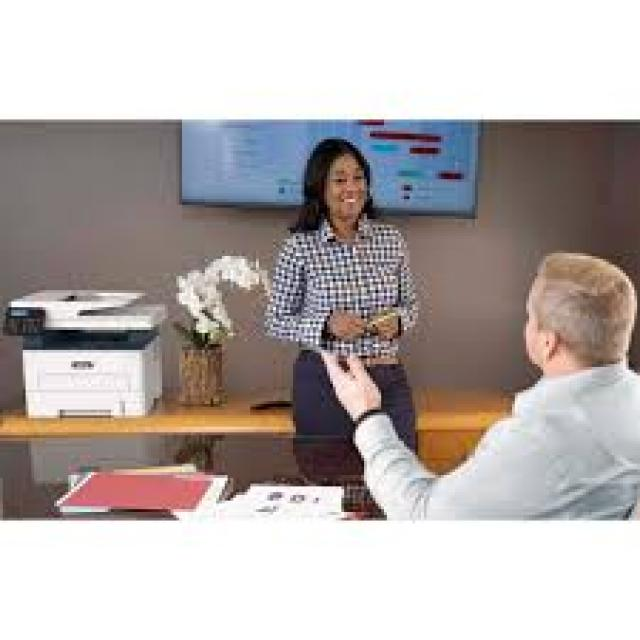printer: (0, 272, 176, 432)
